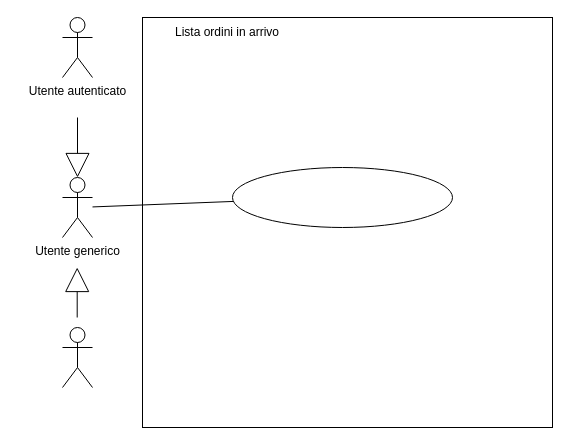
Image size: 570x445. Some labels were removed from this diagram. Each missing label, with the box of its shape:
UC3.3.1 Ricezione piatto: (232, 166, 452, 228)
Utente non autenticato: (62, 326, 92, 388)
